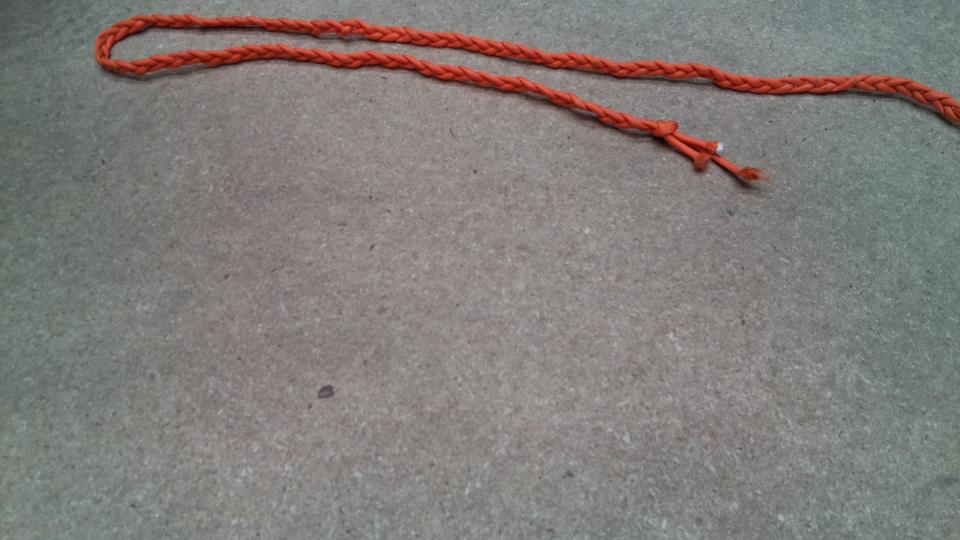rope: (91, 9, 960, 186)
